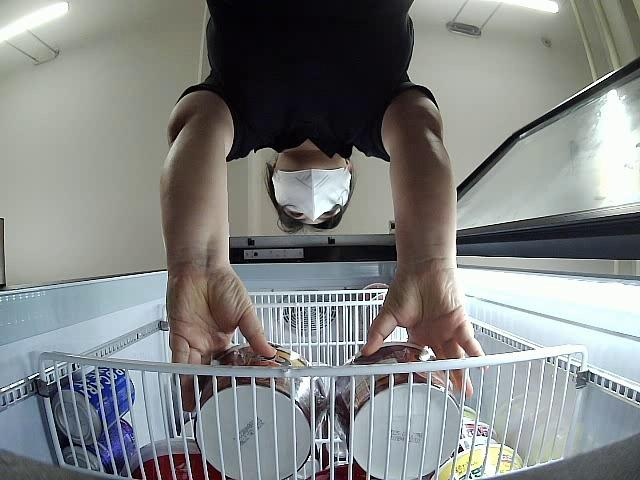00_hand: (359, 270, 489, 398), (165, 268, 278, 412)
05_nuguri_L: (191, 339, 328, 480), (335, 341, 460, 477)
